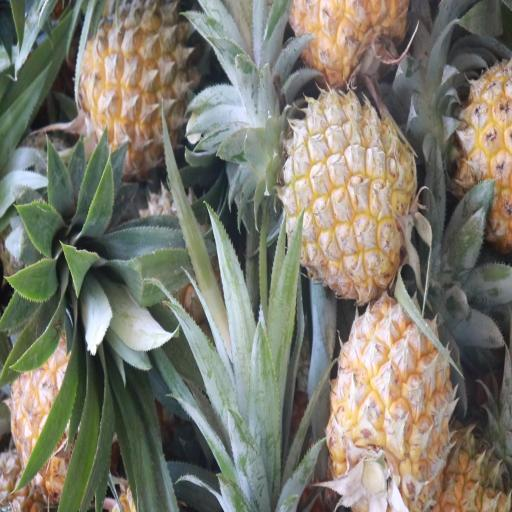------------------------------: (74, 3, 191, 169)
Pineapple - v8 v1: (329, 281, 453, 512), (282, 92, 414, 299), (428, 47, 512, 247)
